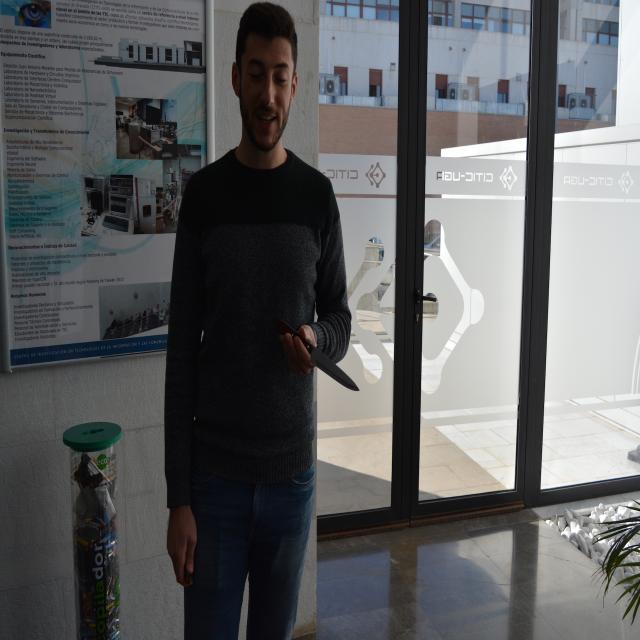knife: (279, 321, 365, 398)
